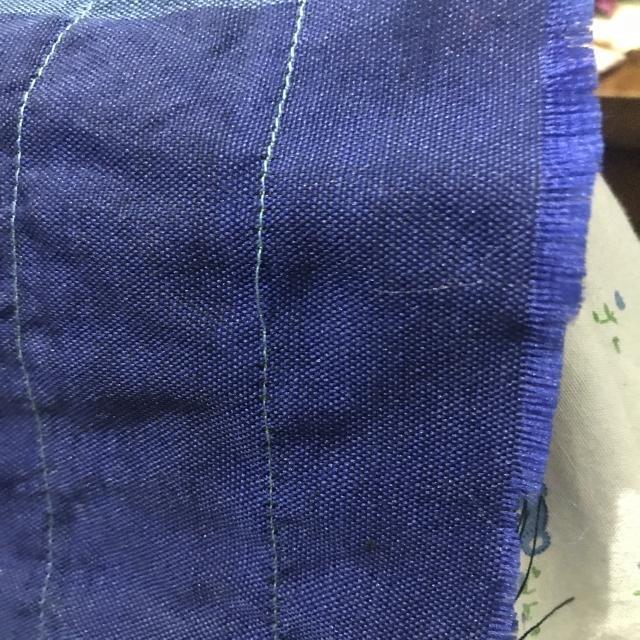good: (248, 351, 288, 434)
skip: (210, 233, 290, 336)
